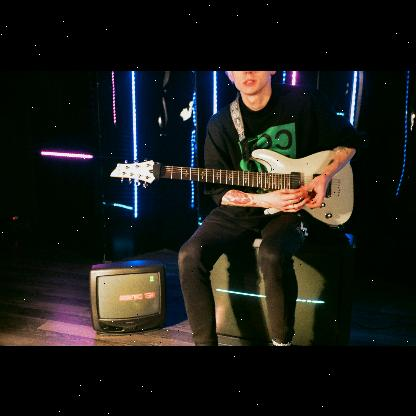guitar: (108, 148, 356, 224)
